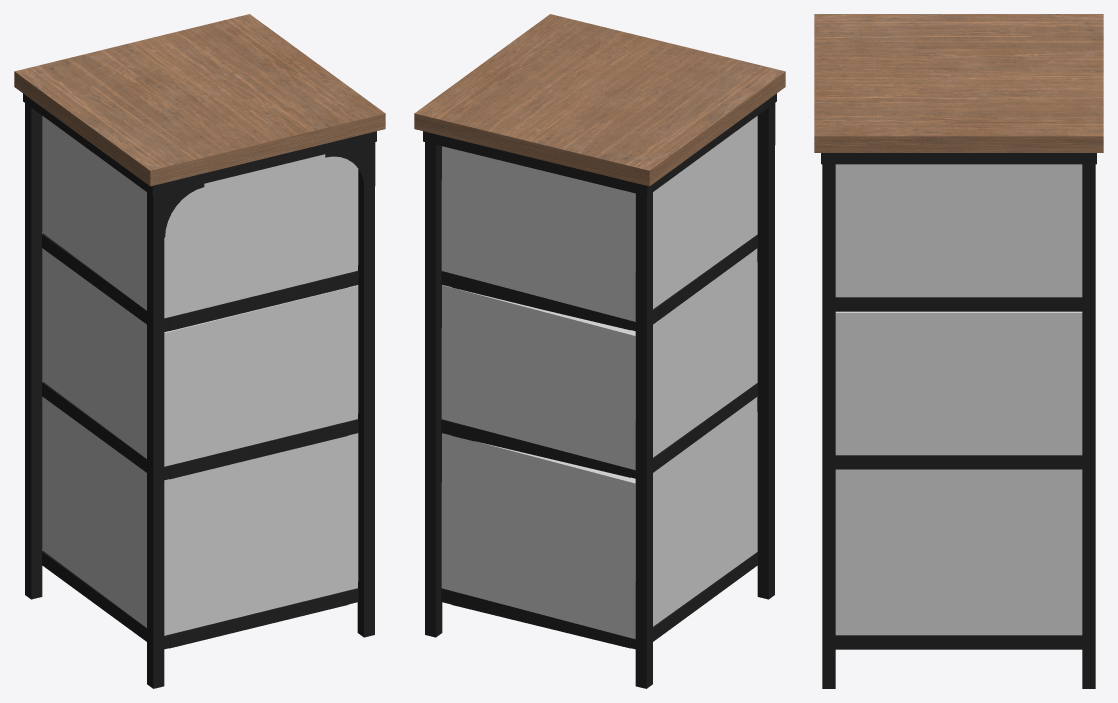
The model's file is collissionboxes.gltf.
The picture shows the model from 3 angles, left to right: view 1: azimuth 30°, elevation 25°; view 2: azimuth 150°, elevation 25°; view 3: azimuth 270°, elevation 25°; orthographic projection. The views are drawn at different scales.
Parts seen in each view (by area): view 1: collissionbox1.002, collissionbox1, Cube.001, collissionbox1.001, Cube.004, Cube.002, Cube.005, Cube.006, Plane, Cube.003; view 2: collissionbox1.002, collissionbox1, Cube.001, collissionbox1.001, Cube.004, Cube.006, Cube.002, Cube.005, Cube.003; view 3: collissionbox1.002, Cube.001, collissionbox1, collissionbox1.001, Cube.004, Cube.002, Cube.005, Cube.006, Cube.003.
Part boxes in pixels (x1,y1,x2,y2): collissionbox1.002: [42, 396, 358, 635]; collissionbox1: [42, 248, 358, 466]; Cube.001: [14, 14, 385, 186]; collissionbox1.001: [42, 116, 358, 318]; Cube.004: [25, 103, 374, 688]; Cube.002: [42, 233, 358, 331]; Cube.005: [42, 381, 358, 480]; Cube.006: [42, 550, 358, 649]; Plane: [154, 131, 375, 239]; Cube.003: [23, 93, 376, 196]; collissionbox1.002: [441, 397, 757, 639]; collissionbox1: [441, 248, 757, 470]; Cube.001: [414, 14, 785, 186]; collissionbox1.001: [441, 116, 757, 321]; Cube.004: [425, 103, 774, 688]; Cube.006: [441, 552, 757, 649]; Cube.002: [441, 234, 757, 330]; Cube.005: [441, 383, 757, 478]; Cube.003: [423, 93, 776, 196]; collissionbox1.002: [835, 469, 1082, 635]; Cube.001: [814, 14, 1103, 152]; collissionbox1: [835, 311, 1082, 455]; collissionbox1.001: [835, 164, 1082, 297]; Cube.004: [822, 164, 1095, 688]; Cube.002: [835, 297, 1082, 311]; Cube.005: [835, 455, 1082, 469]; Cube.006: [835, 635, 1082, 649]; Cube.003: [821, 153, 1096, 164].
Bounding box in the file's own units: 2 × 4.24 × 2.
9 materials, 4 textured.
